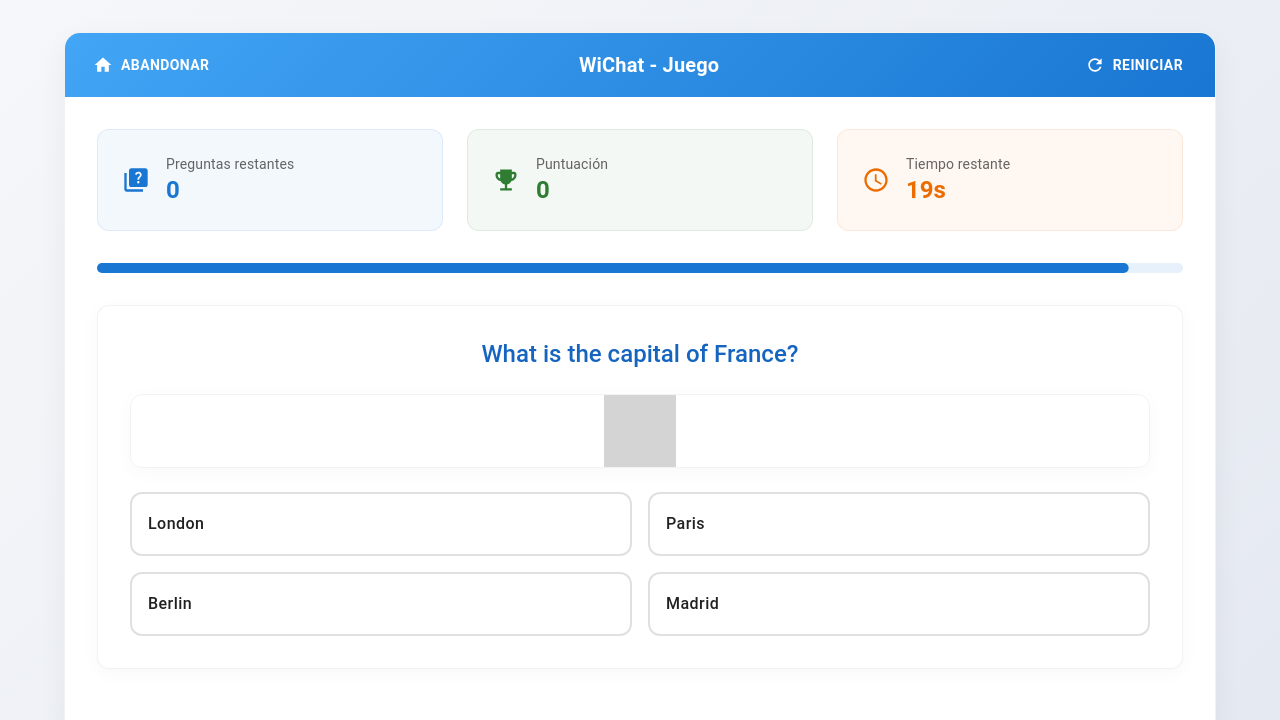
Test: Game Component › shows game finished screen after all questions
Note: Find and click the correct answer
Click the button "Paris": (686, 524) [648,492,1150,556]
Wait 2000 ms
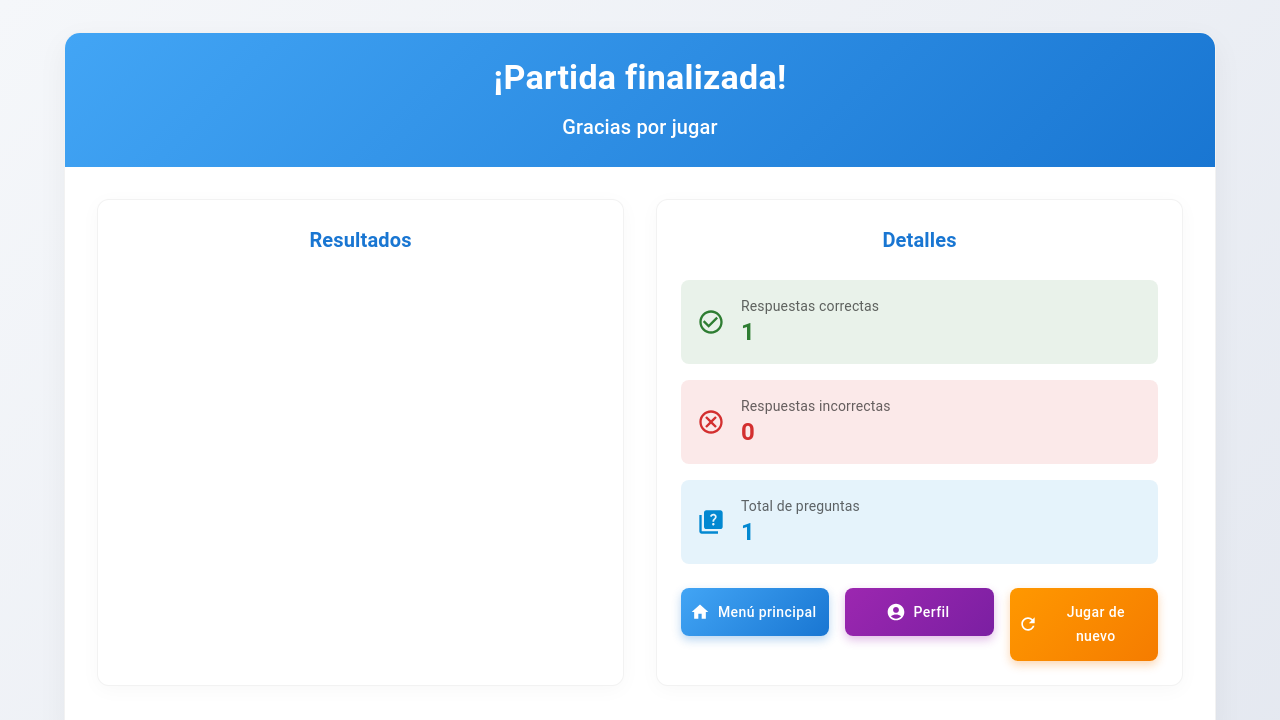
expect the heading "¡Partida finalizada!" is shown: met, box [494,57,786,97]
